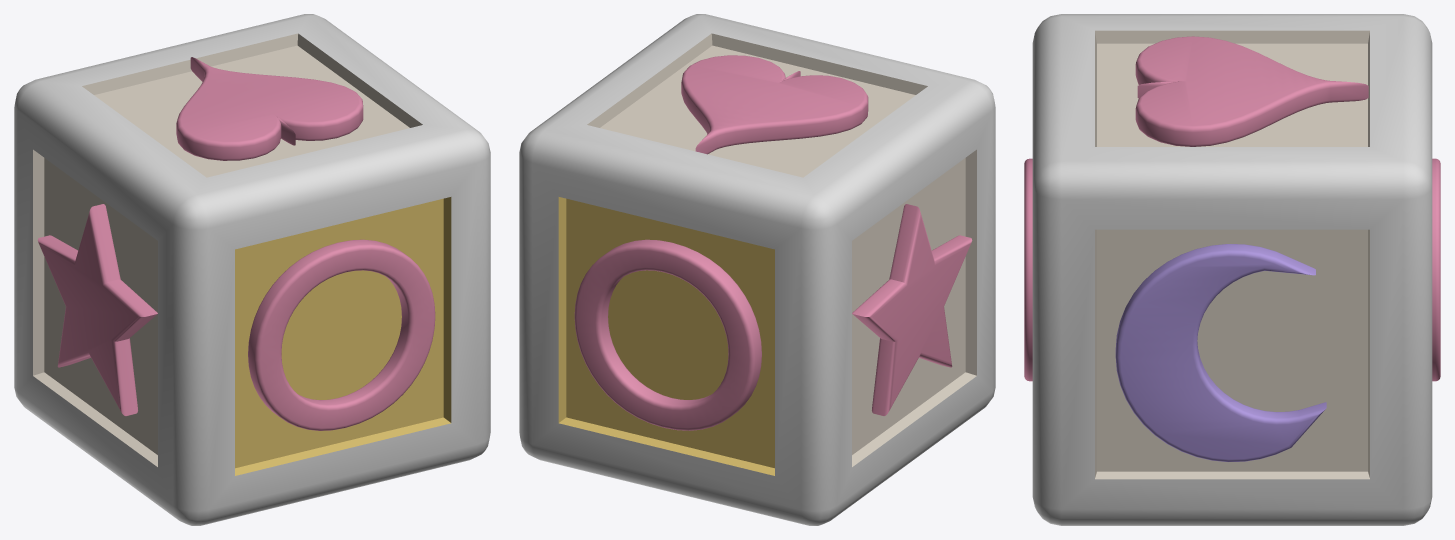
File: W6_Block_O.fbx
The picture shows the model from 3 angles, left to right: view 1: azimuth 30°, elevation 25°; view 2: azimuth 150°, elevation 25°; view 3: azimuth 270°, elevation 25°; orthographic projection. The views are drawn at different scales.
Visible parts, largest first — view 1: W6_Block_O; view 2: W6_Block_O; view 3: W6_Block_O.
Part boxes in pixels (box(x1,y1,x2,y2)): W6_Block_O: box(14, 14, 490, 525); W6_Block_O: box(519, 14, 995, 525); W6_Block_O: box(1024, 14, 1440, 525).
Size of the model in its own units: 0.375 by 0.3675 by 0.375.
